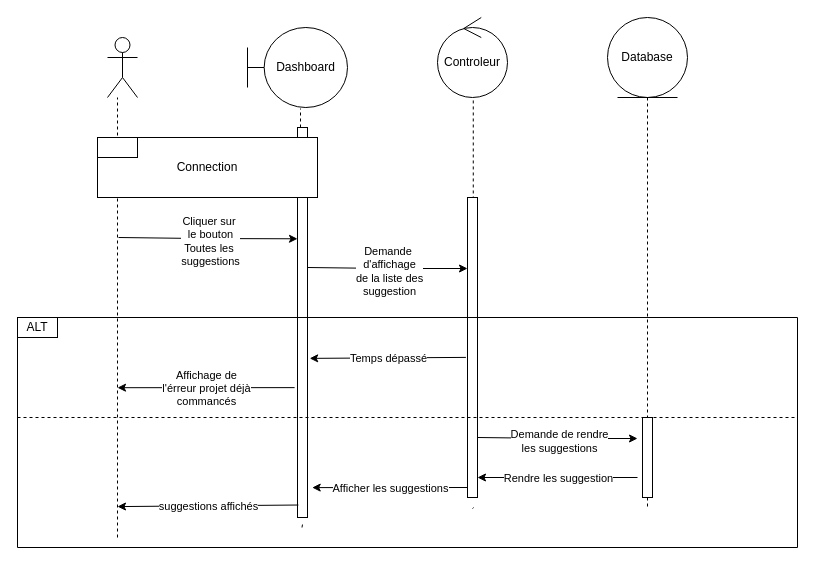
Some shapes in this 816 by 566 pixel diagram are drawn without their labels. The shapes that lost their labels are listed below. From the top down, each one's centre as x and y in pixels, then its label:
point (122, 67): Enseignant
point (117, 147): REF
